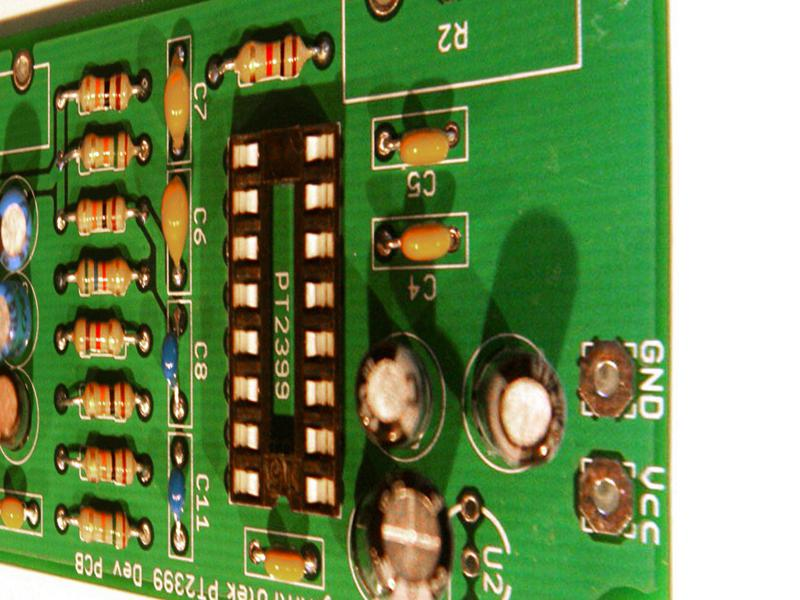Capacitor: (467, 337, 572, 477), (350, 470, 462, 600), (350, 334, 448, 456), (1, 177, 42, 279), (1, 276, 38, 370), (1, 367, 34, 458)
Resistor: (229, 33, 316, 85), (74, 438, 141, 492), (67, 251, 136, 303), (66, 128, 139, 176), (66, 311, 132, 364), (71, 502, 136, 553), (73, 377, 142, 424), (66, 71, 135, 115), (66, 194, 132, 239)
